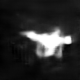plane: (17, 26, 75, 59)
